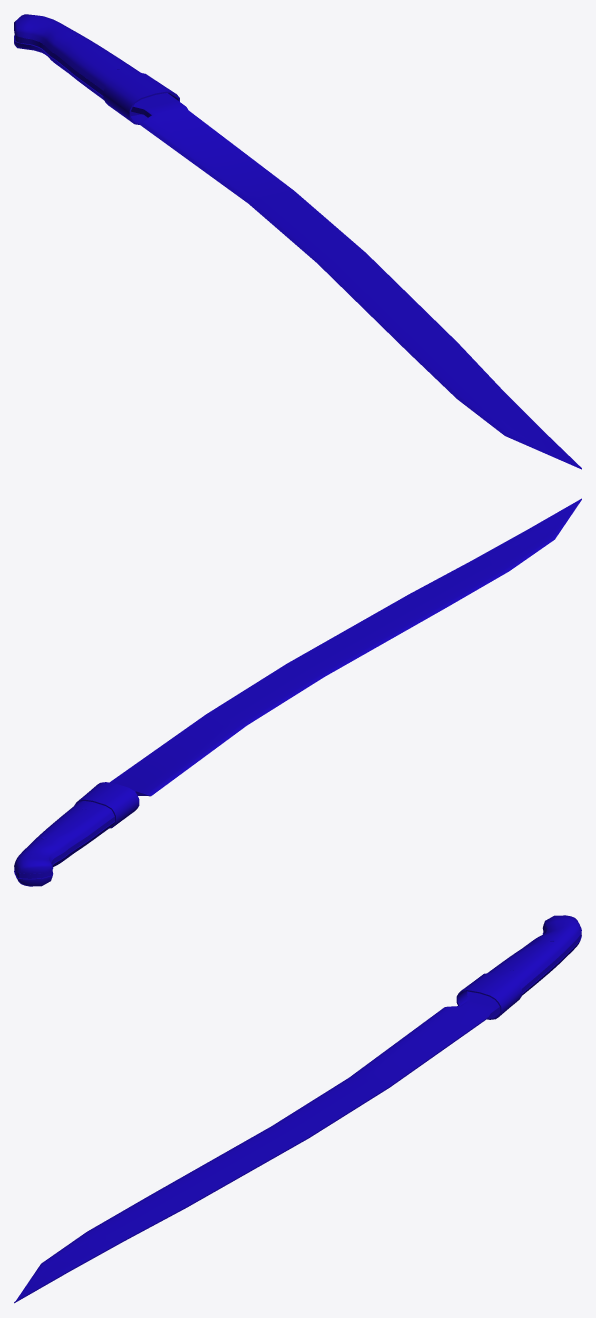
Rendered from Yatagan.FBX.
3 views of the same model, one above another, from view 1: azimuth 30°, elevation 25°; view 2: azimuth 150°, elevation 25°; view 3: azimuth 330°, elevation 25° (orthographic). The views are drawn at different scales.
Parts seen in each view (by area): view 1: Object001, Kabza1, Object002; view 2: Object001, Kabza1, Object002; view 3: Object001, Kabza1, Object002.
Boxes of the visible parts, <box> form: Object001: <box>14,35,581,469</box>; Kabza1: <box>14,14,140,115</box>; Object002: <box>103,72,179,124</box>; Object001: <box>14,498,581,878</box>; Kabza1: <box>14,801,114,886</box>; Object002: <box>74,782,139,828</box>; Object001: <box>14,931,581,1303</box>; Kabza1: <box>487,915,581,995</box>; Object002: <box>456,973,521,1019</box>.
Bounding box in the file's own units: 8.29 × 2.38 × 87.43.
